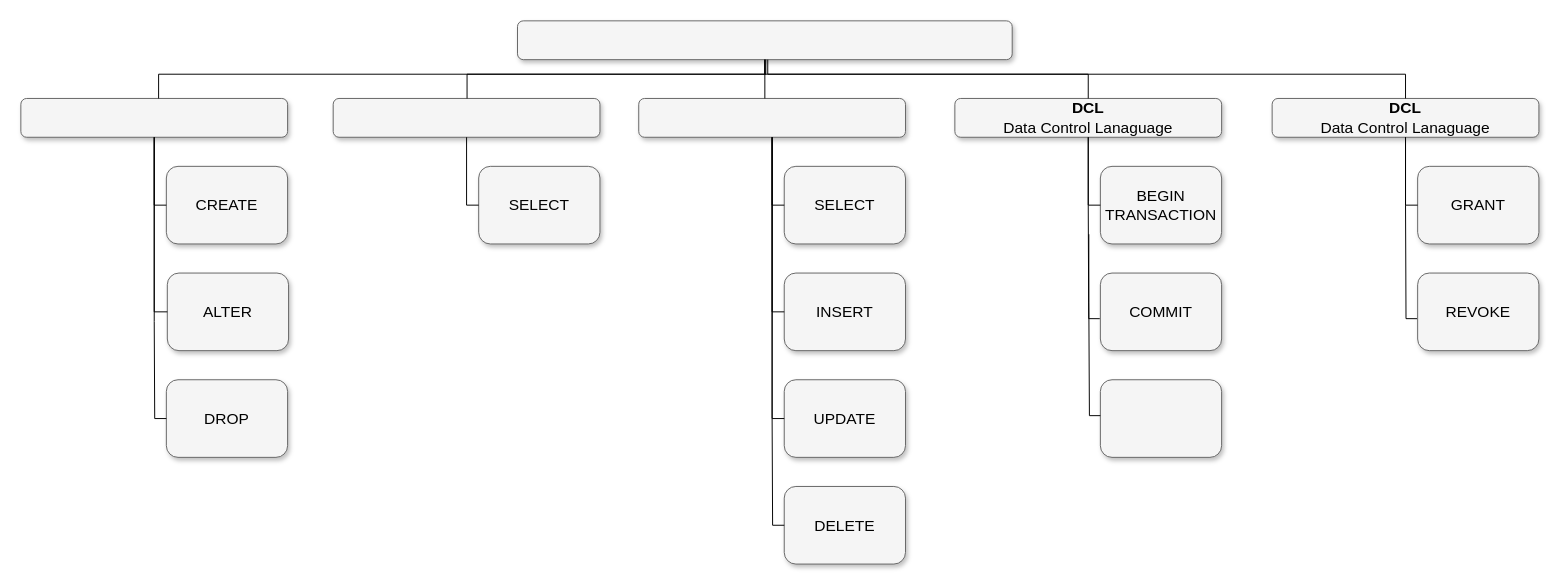
Image size: 1562x588. Some labels were removed from this diagram. The shapes that lost their labels are listed below. From the top down, each one's centre as x and y in pixels, then its label:
pixel 765 41: Comandos SQL
pixel 154 119: DDL Data Definition Language
pixel 467 119: DQL Data Query Language
pixel 772 119: DML Data Manipulation Language
pixel 1161 419: ROLLBACK
